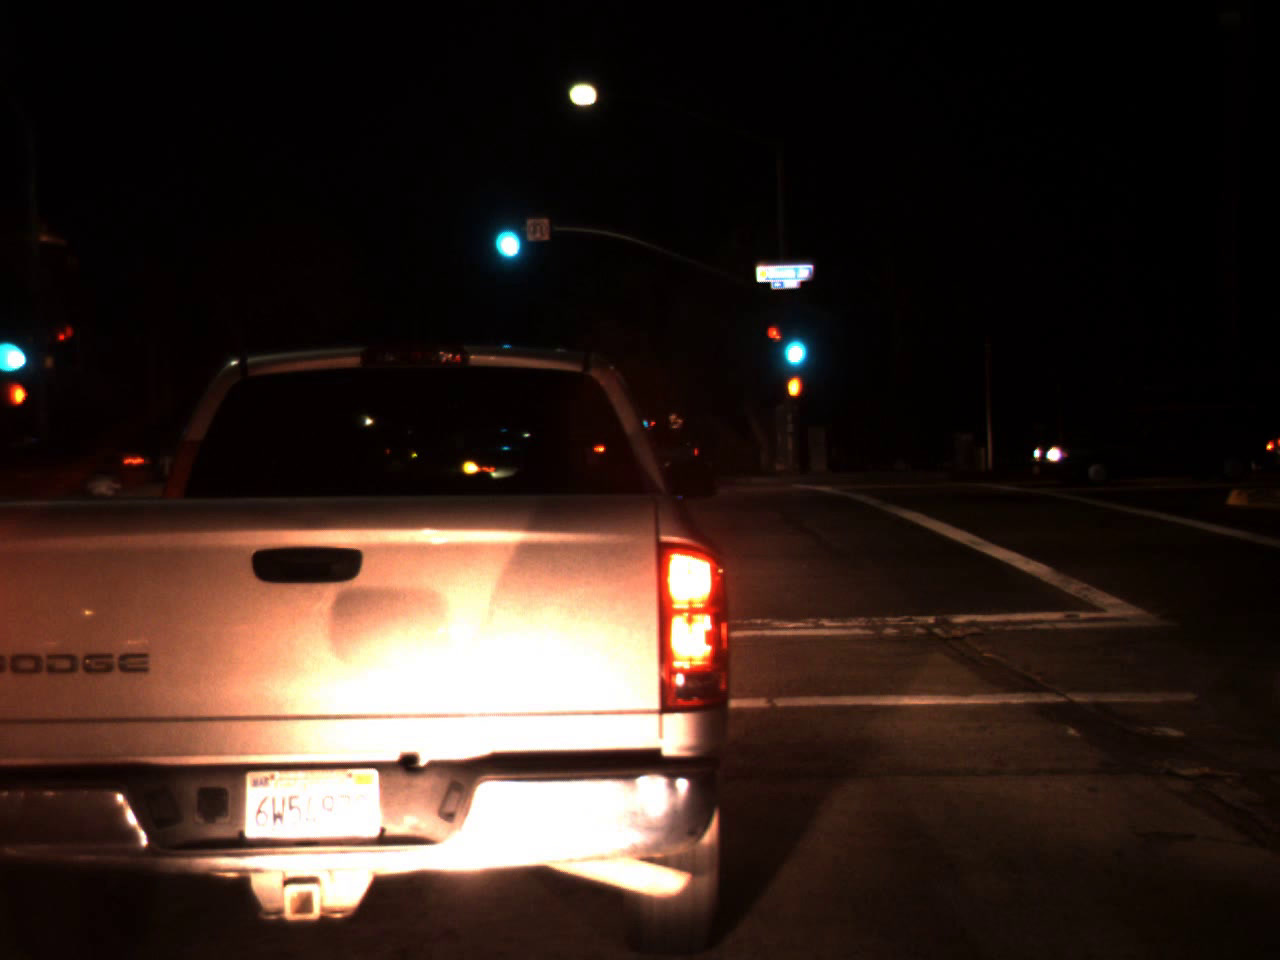go: (484, 196, 527, 268), (776, 309, 812, 375), (0, 318, 27, 375)
